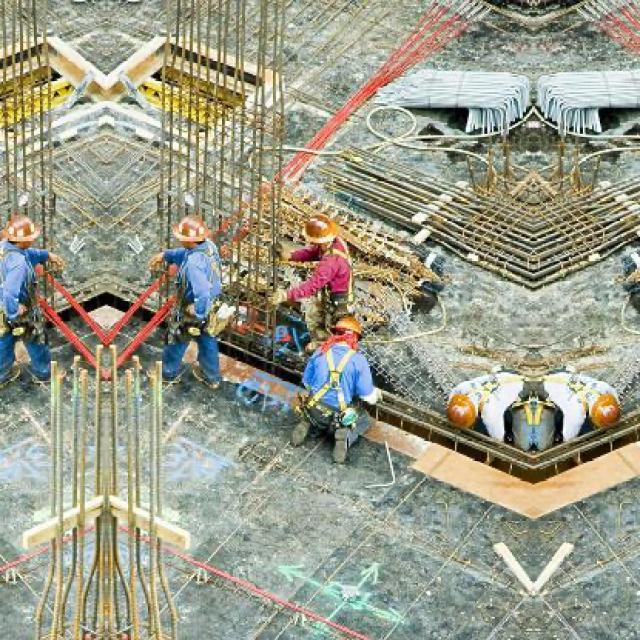helmet: (302, 214, 338, 249), (590, 392, 622, 431), (173, 214, 208, 248), (2, 214, 37, 248), (446, 392, 476, 431), (333, 315, 363, 348)
